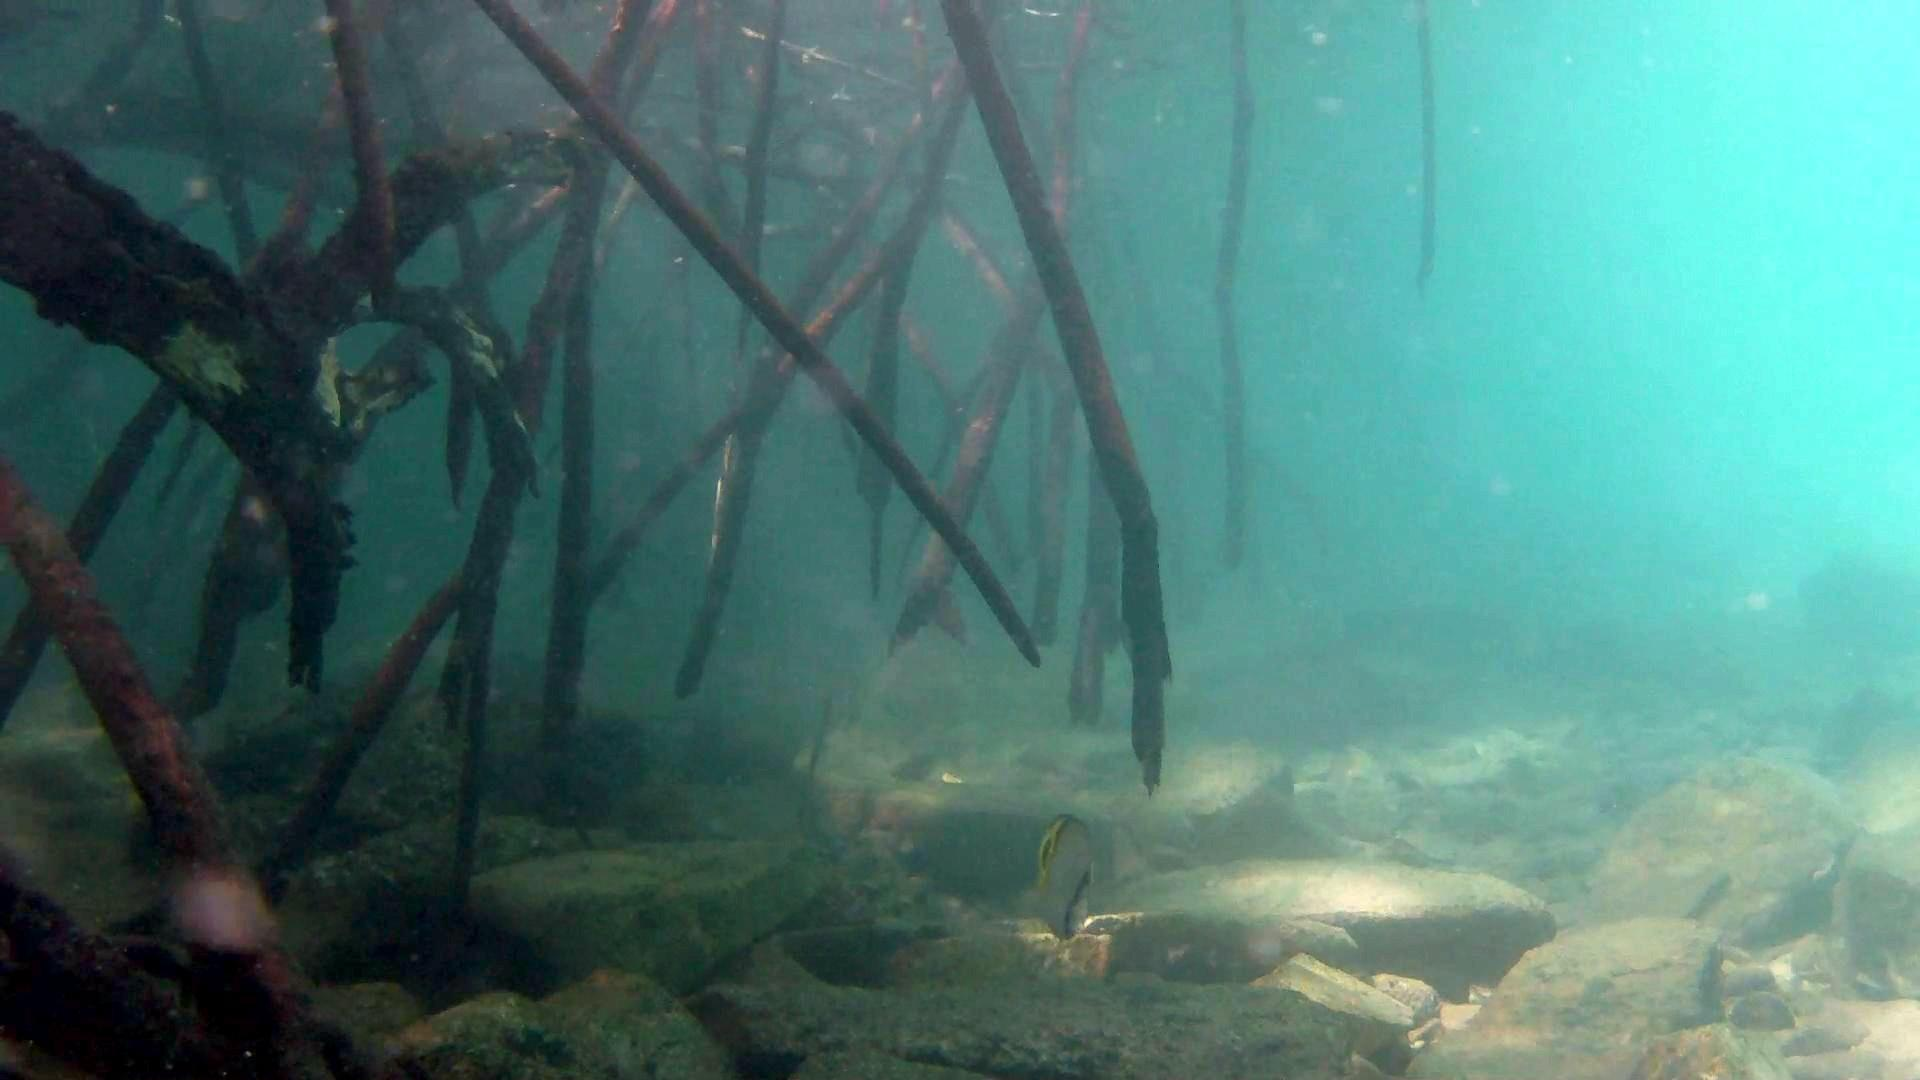chaetodon vagabundus: (1032, 810, 1097, 946)
